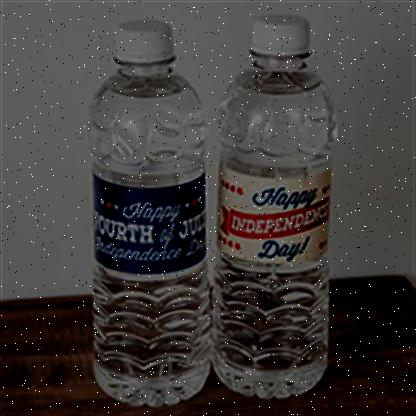Plastic Bottle: (87, 20, 211, 408), (214, 16, 338, 400)
